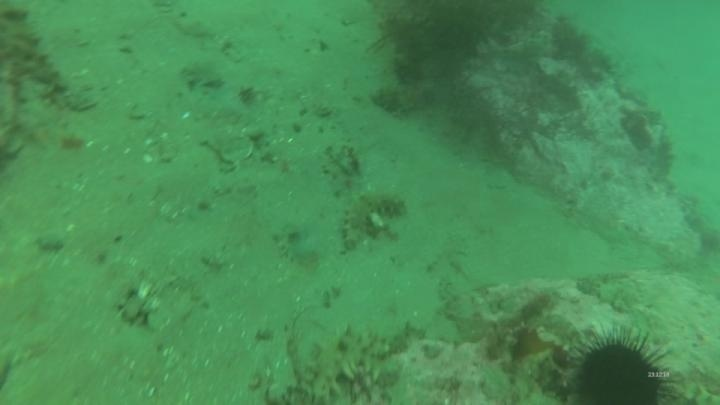echinus: (568, 327, 674, 405)
holothurian: (301, 320, 409, 402), (0, 6, 69, 98), (337, 186, 408, 253)
